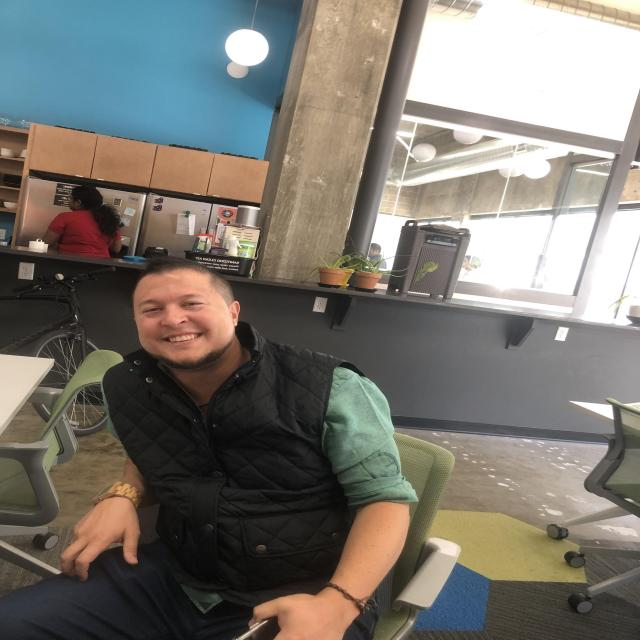face: (133, 272, 235, 370), (67, 194, 82, 210)
